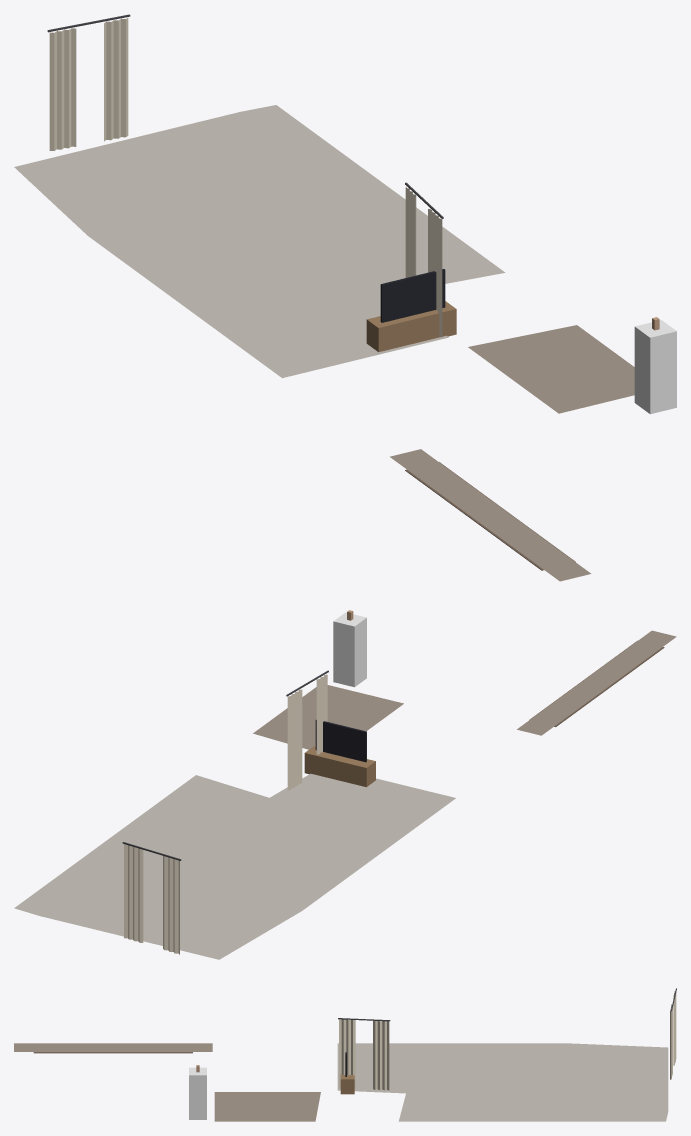
The model's file is fine-s0.glb.
3 views of the same model, one above another, from view 1: azimuth 30°, elevation 25°; view 2: azimuth 150°, elevation 25°; view 3: azimuth 270°, elevation 25° (orthographic). The views are drawn at different scales.
Parts seen in each view (by area): view 1: soft-s0, tv-console.000, water-heater.000; view 2: soft-s0, tv-console.000, water-heater.000; view 3: soft-s0, water-heater.000, tv-console.000.
Boxes of the visible parts, x1=… form: soft-s0: x1=14, y1=14, x2=634, y2=581; tv-console.000: x1=366, y1=269, x2=456, y2=352; water-heater.000: x1=634, y1=317, x2=676, y2=414; soft-s0: x1=14, y1=630, x2=676, y2=959; tv-console.000: x1=304, y1=719, x2=375, y2=787; water-heater.000: x1=333, y1=610, x2=366, y2=687; soft-s0: x1=14, y1=988, x2=676, y2=1121; water-heater.000: x1=189, y1=1065, x2=206, y2=1119; tv-console.000: x1=340, y1=1052, x2=354, y2=1094.
Size of the model in its own units: 5.68 by 2.4 by 20.21.
